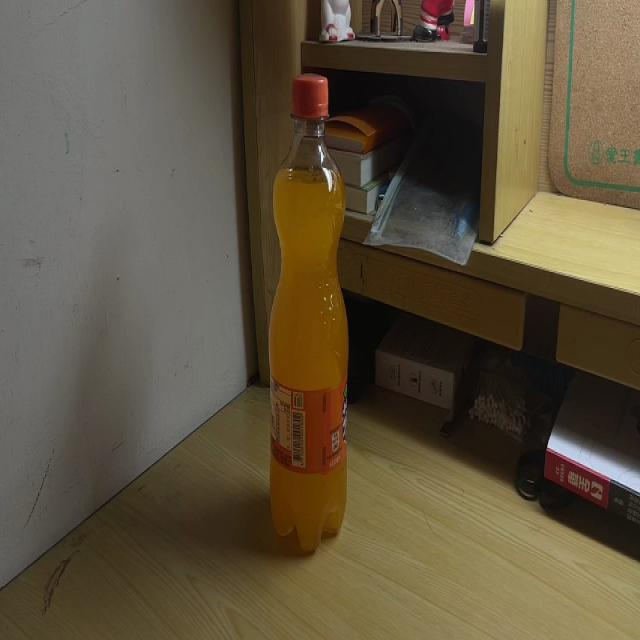Fanta: (268, 76, 348, 552)
